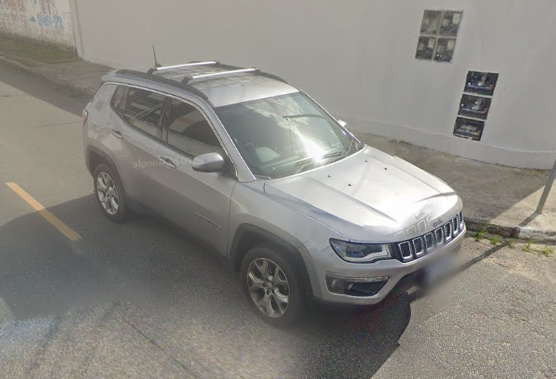car: (79, 44, 467, 333)
